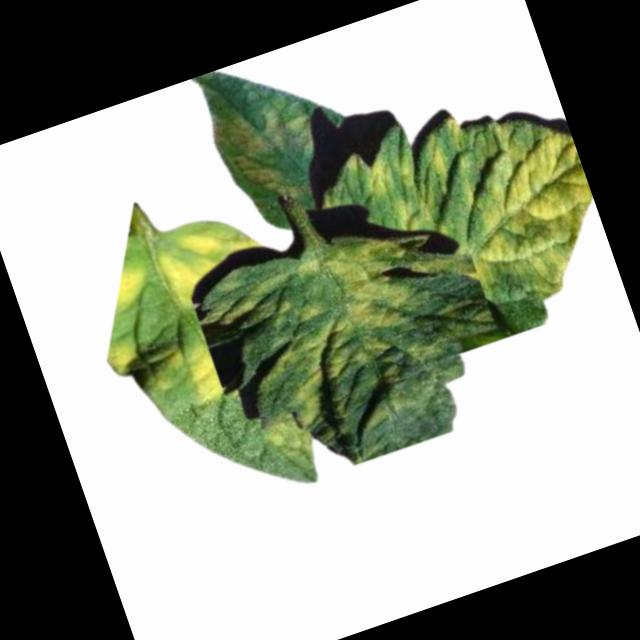Leaf_Mold: (348, 87, 618, 346), (200, 218, 450, 445), (204, 85, 329, 216), (150, 203, 274, 311), (176, 337, 227, 407), (102, 256, 155, 311), (98, 331, 139, 377)
